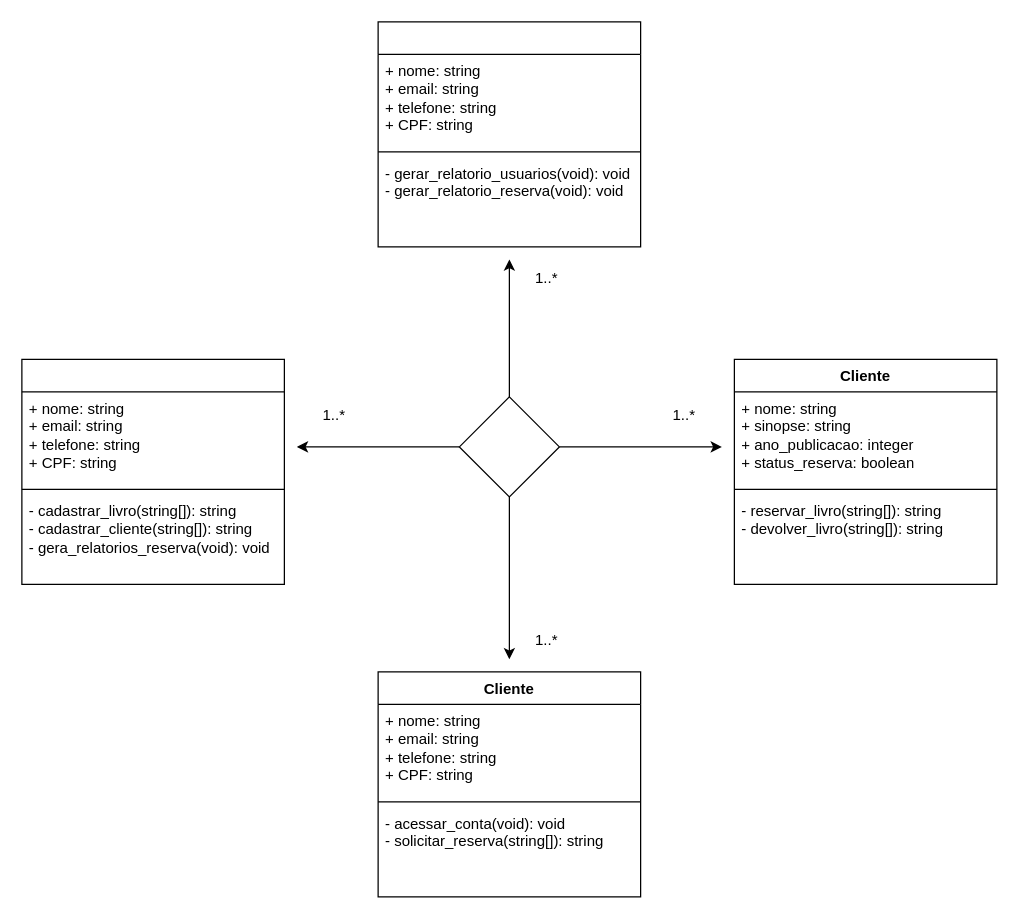
The diagram is 1019 pixels wide and 923 high, and some of its shapes have lost their labels. The box of each missing label's shape, as (x1, y1, x2, y2) in pixels:
Funcionario: (21, 358, 284, 584)
Gerente: (377, 21, 641, 247)
